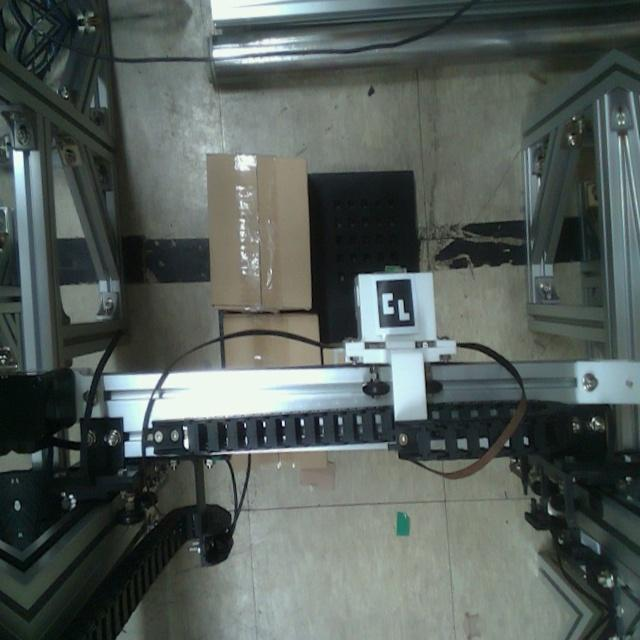box: (200, 147, 316, 317)
